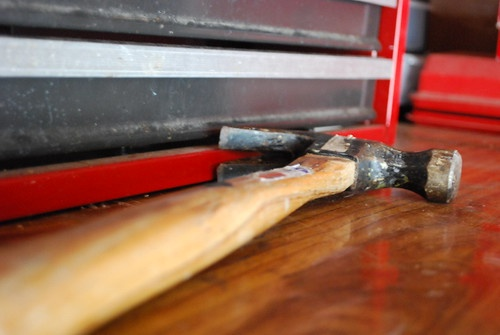hammer: (1, 122, 463, 335)
